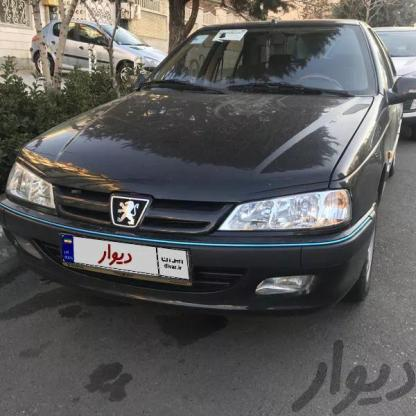Car: (0, 16, 382, 326), (23, 5, 164, 96), (351, 20, 416, 144)
